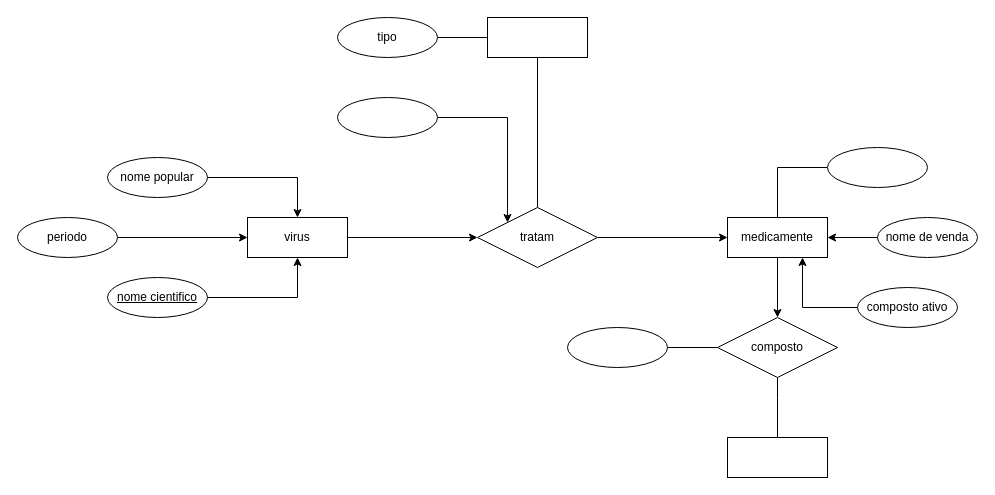
The diagram is 995 pixels wide and 495 high, and some of its shapes have lost their labels. Here are the shapes that lost their labels. From the top down, the centre of each, then its label:
(x=537, y=37): paciente
(x=387, y=117): dosajem
(x=877, y=167): id
(x=617, y=347): concentracao
(x=777, y=457): coquetel
